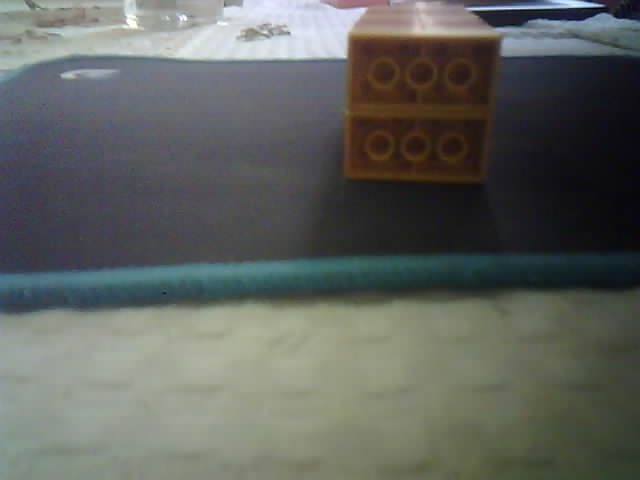lego: (339, 5, 506, 189)
